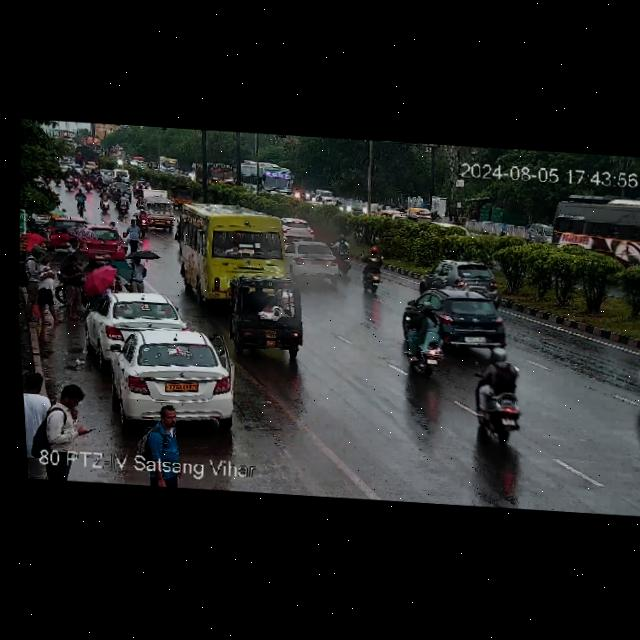bus: (168, 198, 294, 309), (542, 189, 640, 274), (234, 158, 294, 198)
car: (86, 326, 240, 431), (403, 285, 512, 353), (224, 275, 306, 357), (85, 289, 190, 352), (50, 221, 133, 262), (422, 256, 502, 292), (282, 232, 337, 278), (374, 204, 433, 225), (280, 212, 317, 243), (165, 179, 195, 205), (524, 219, 551, 245), (337, 200, 373, 218), (633, 334, 640, 415), (132, 178, 154, 193)
motorcycle: (471, 346, 528, 437), (402, 297, 446, 371), (359, 252, 388, 291), (62, 166, 101, 192), (333, 236, 356, 272), (113, 191, 130, 215), (73, 188, 86, 215), (98, 191, 111, 212)
person: (47, 384, 96, 457), (135, 404, 191, 463), (33, 256, 71, 321), (16, 251, 48, 318), (58, 253, 90, 317), (125, 251, 145, 292), (58, 381, 87, 407), (124, 219, 147, 247)
truck: (195, 161, 246, 188), (147, 195, 174, 226)
